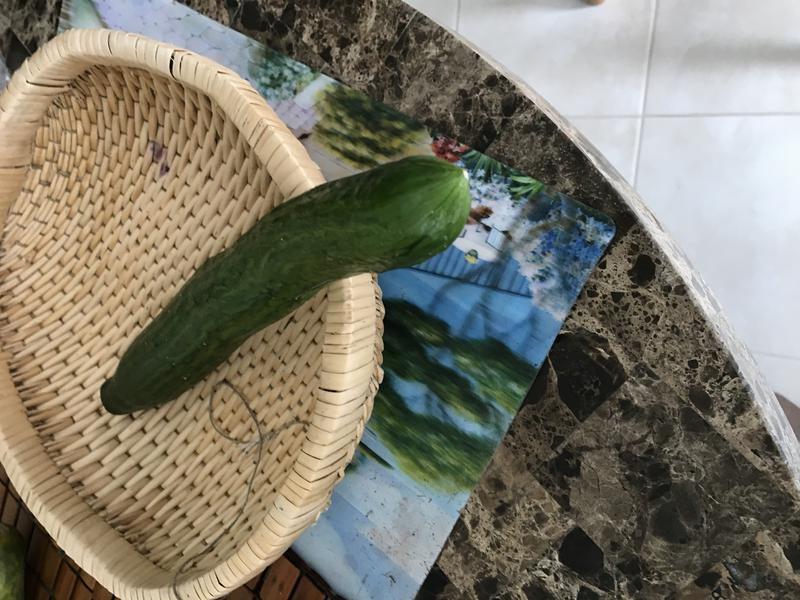cucumber: (89, 148, 494, 427)
